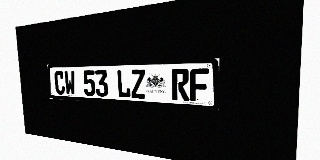3: (95, 70, 108, 97)
5: (83, 70, 96, 96)
C: (54, 71, 65, 95)
F: (190, 68, 209, 102)
L: (116, 70, 131, 98)
R: (171, 69, 189, 101)
W: (64, 71, 76, 95)
Z: (130, 69, 146, 99)
